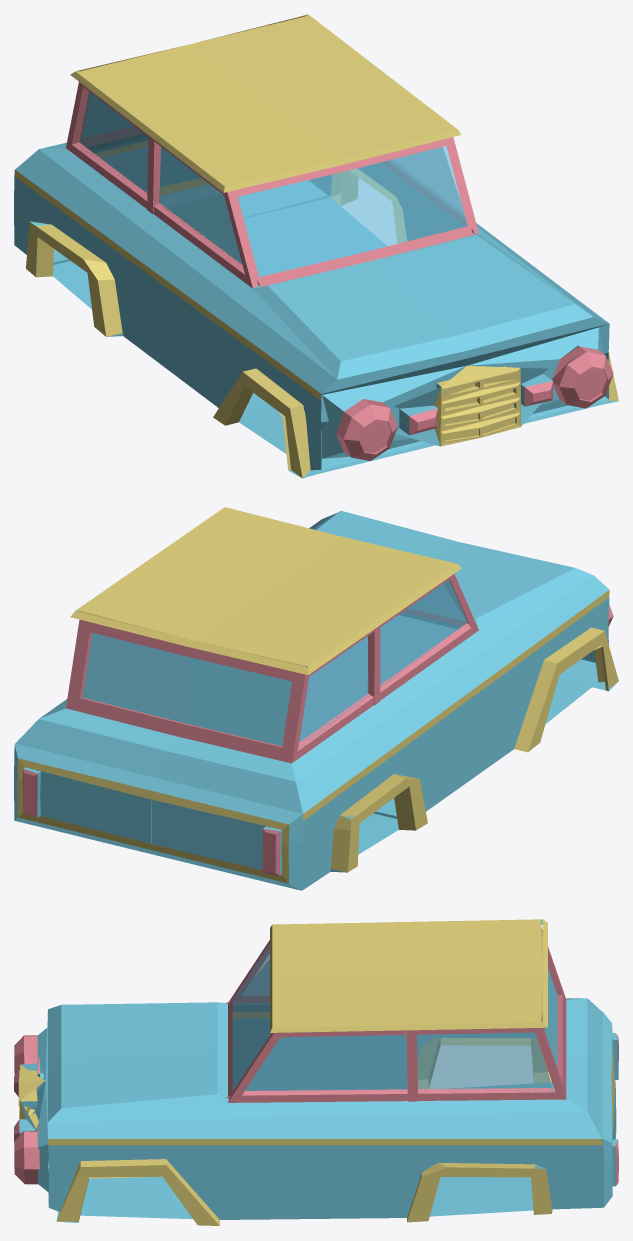
Rendered from broncobody.fbx.
3 renders of one model, top to bottom at view 1: azimuth 30°, elevation 25°; view 2: azimuth 150°, elevation 25°; view 3: azimuth 270°, elevation 25°, orthographic. The views are drawn at different scales.
Visible parts, largest first — view 1: carbody; view 2: carbody; view 3: carbody.
Boxes of the visible parts, x1,y1,x2,y2 form: carbody: (14,14,618,478); carbody: (14,507,618,890); carbody: (14,919,618,1225).
Size of the model in its own units: 244 by 149 by 439.
